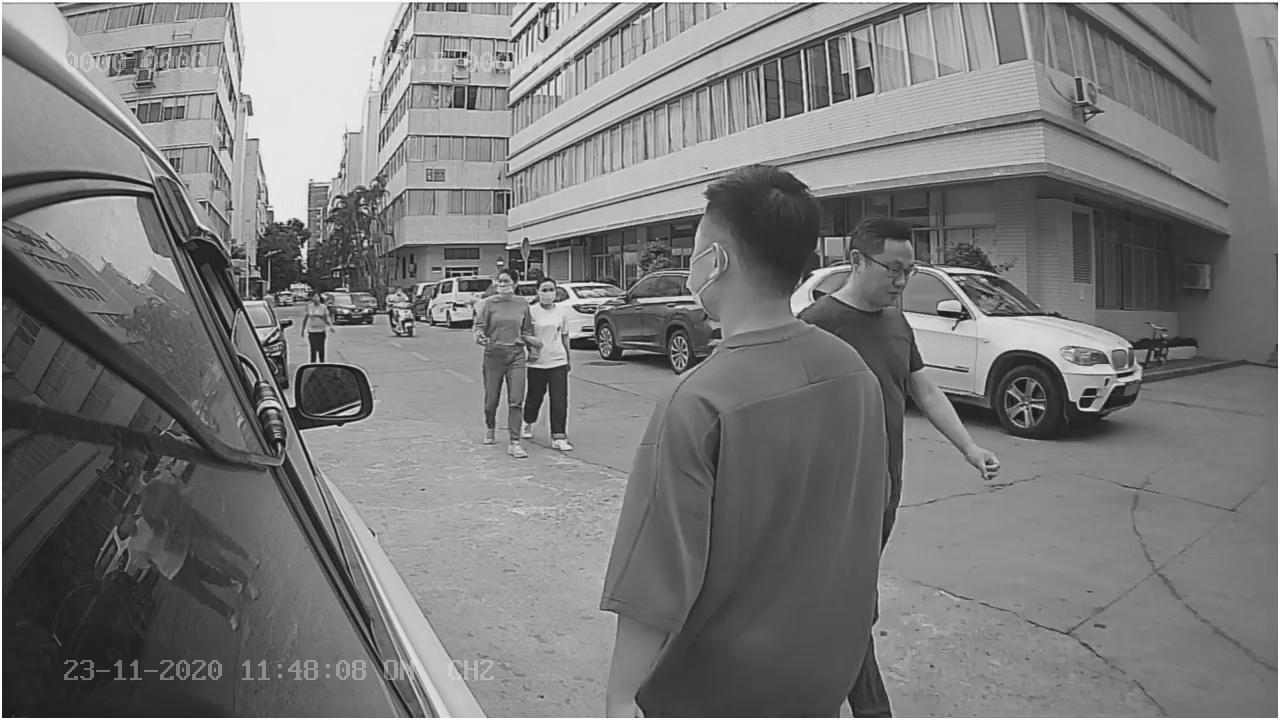person: (473, 262, 537, 459)
